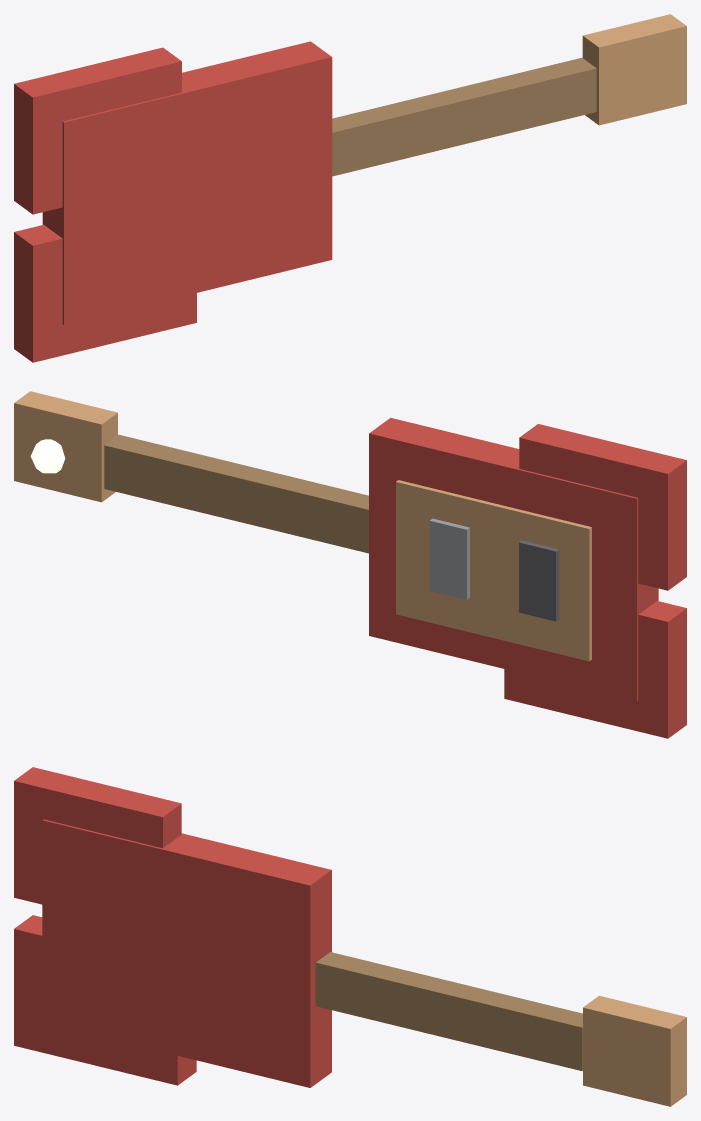
File: electric_guitar.glb
3 renders of one model, top to bottom at view 1: azimuth 30°, elevation 25°; view 2: azimuth 150°, elevation 25°; view 3: azimuth 330°, elevation 25°, orthographic.
Visible parts, largest first — view 1: ElectricGuitar; view 2: ElectricGuitar; view 3: ElectricGuitar.
Boxes of the visible parts, box(x1,y1,x2,y2) form: ElectricGuitar: box(14, 14, 686, 362); ElectricGuitar: box(14, 391, 686, 738); ElectricGuitar: box(14, 767, 686, 1106).
Size of the model in its own units: 0.88 by 0.34 by 0.071.
